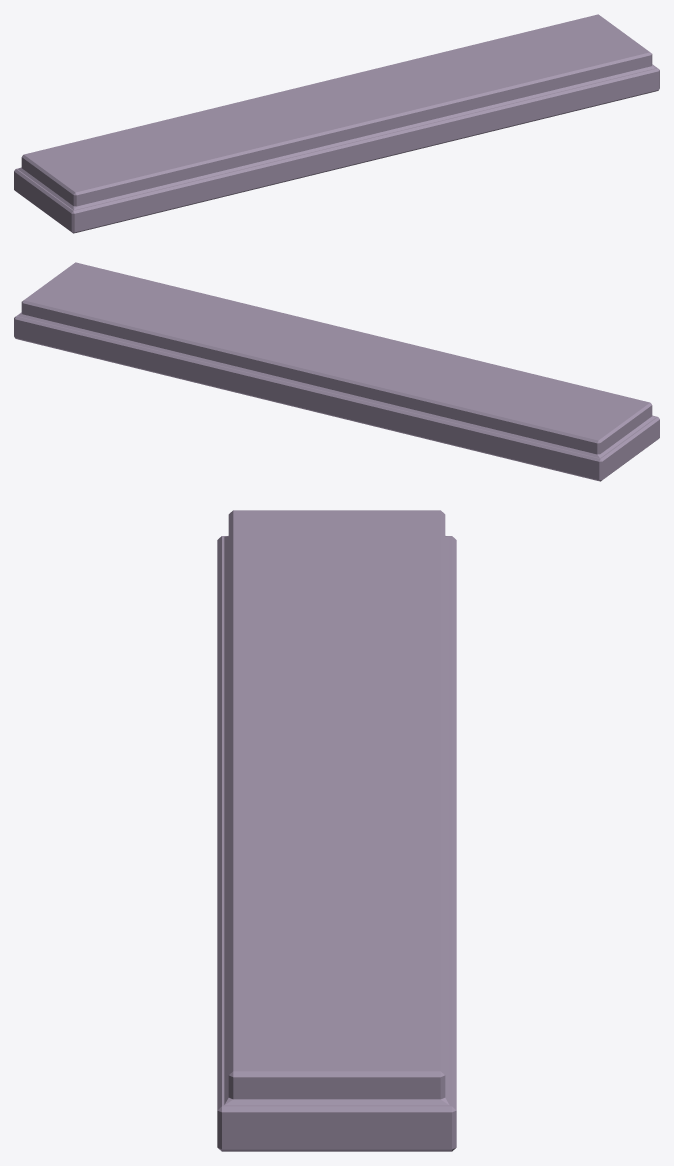
Rendered from OfficeLight.fbx.
The picture shows the model from 3 angles, top to bottom: view 1: azimuth 30°, elevation 25°; view 2: azimuth 150°, elevation 25°; view 3: azimuth 270°, elevation 25°; orthographic projection. The views are drawn at different scales.
Visible parts, largest first — view 1: OfficeLight; view 2: OfficeLight; view 3: OfficeLight.
Boxes of the visible parts, x1,y1,x2,y2 form: OfficeLight: (14, 14, 659, 233); OfficeLight: (14, 262, 659, 481); OfficeLight: (217, 510, 456, 1151).
Size of the model in its own units: 0.8977 by 0.0551 by 0.1579.
